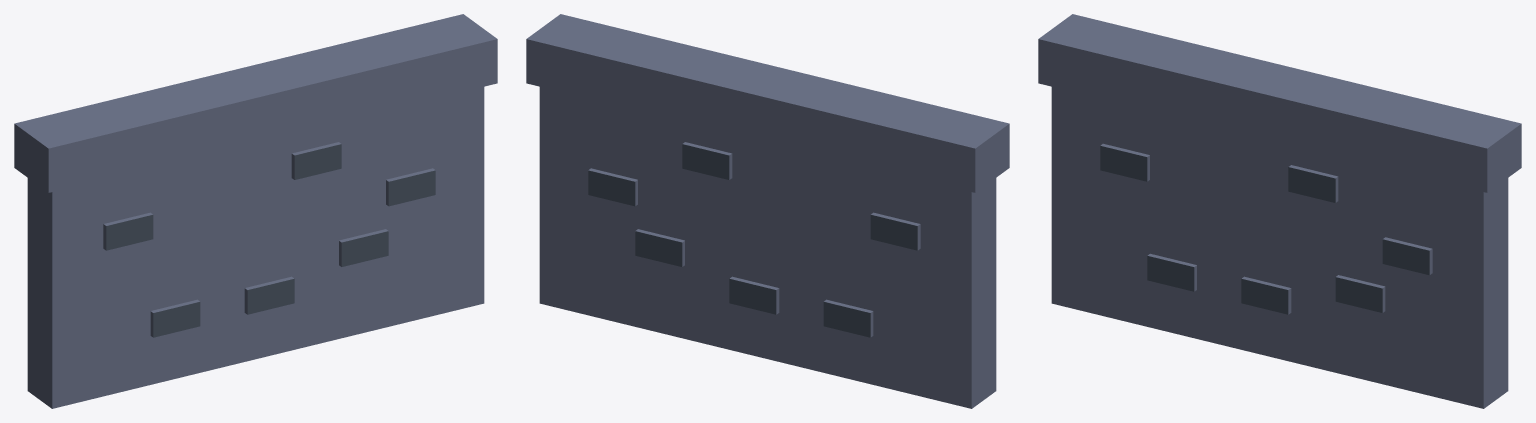
Rendered from Wall.glb.
3 renders of one model, left to right at view 1: azimuth 30°, elevation 25°; view 2: azimuth 150°, elevation 25°; view 3: azimuth 330°, elevation 25°, orthographic.
Parts seen in each view (by area): view 1: Cube; view 2: Cube; view 3: Cube.
Part boxes in pixels (bbox=[...]): Cube: bbox=[14, 14, 497, 408]; Cube: bbox=[526, 14, 1009, 408]; Cube: bbox=[1038, 14, 1521, 408].
Size of the model in its own units: 10.6 by 6 by 1.4.
1 material, 1 textured.
